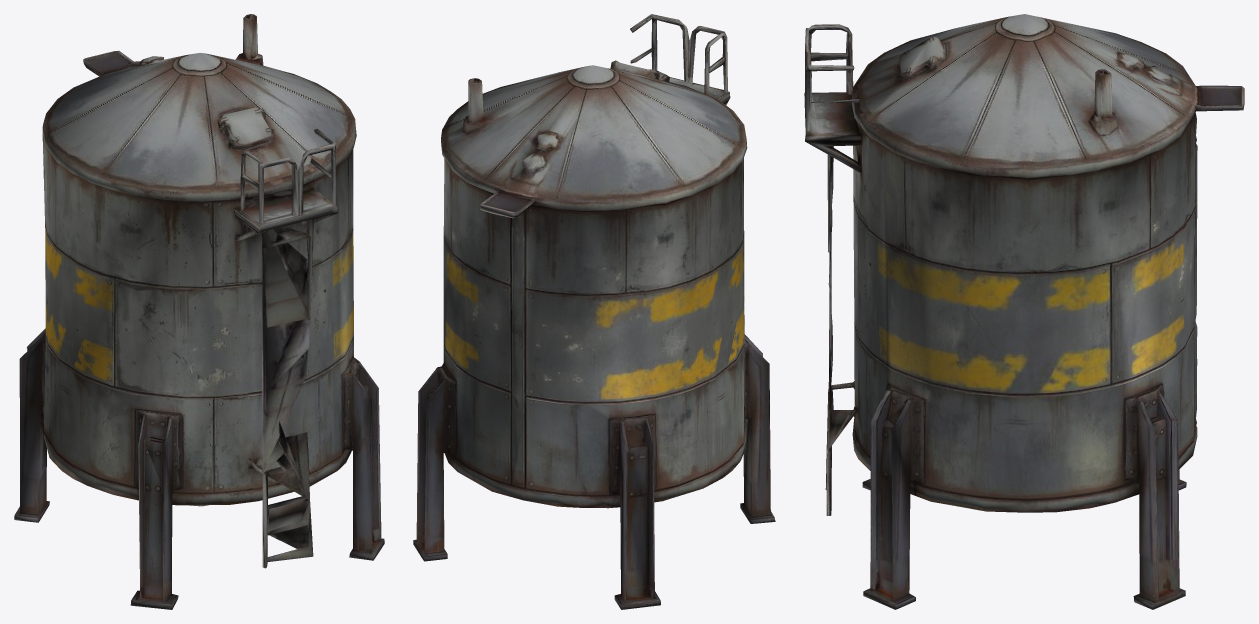
The model's file is water_tank.glb.
The picture shows the model from 3 angles, left to right: view 1: azimuth 30°, elevation 25°; view 2: azimuth 150°, elevation 25°; view 3: azimuth 270°, elevation 25°; orthographic projection. The views are drawn at different scales.
Visible parts, largest first — view 1: Mesh_0; view 2: Mesh_0; view 3: Mesh_0.
Boxes of the visible parts, x1=… form: Mesh_0: x1=14, y1=14, x2=384, y2=609; Mesh_0: x1=413, y1=14, x2=775, y2=609; Mesh_0: x1=804, y1=14, x2=1244, y2=609.
Size of the model in its own units: 1.12 by 1.9 by 1.43.
Materials: 1 (1 with a texture image).
